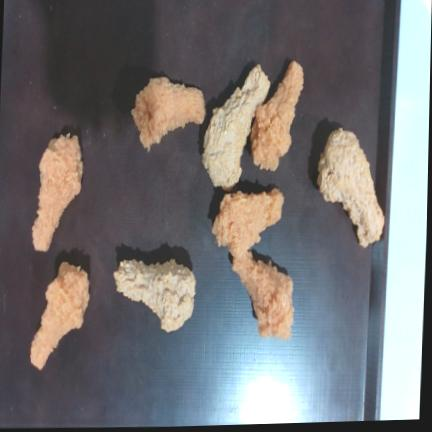chicken: (202, 64, 270, 189), (317, 128, 384, 246), (31, 261, 89, 368), (32, 133, 83, 251), (113, 259, 195, 331), (250, 60, 303, 170), (131, 76, 205, 151), (232, 251, 293, 339), (212, 188, 283, 256)
